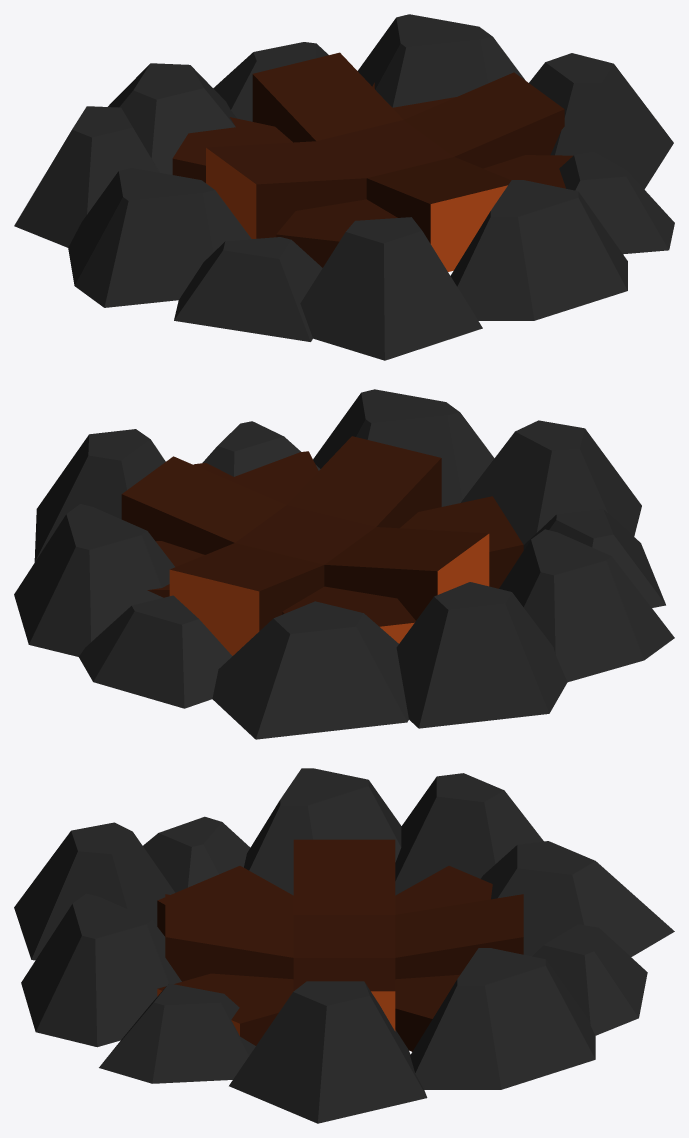
The model's file is campfire.obj.
3 views of the same model, one above another, from view 1: azimuth 30°, elevation 25°; view 2: azimuth 150°, elevation 25°; view 3: azimuth 270°, elevation 25° (orthographic). The views are drawn at different scales.
Visible parts, largest first — view 1: campfire_stones, campfire_logs; view 2: campfire_stones, campfire_logs; view 3: campfire_stones, campfire_logs.
Boxes of the visible parts, <box> form: campfire_stones: <box>14,14,674,360</box>; campfire_logs: <box>172,52,572,271</box>; campfire_stones: <box>14,389,674,739</box>; campfire_logs: <box>121,436,523,655</box>; campfire_stones: <box>14,768,674,1123</box>; campfire_logs: <box>157,839,523,1051</box>.
Size of the model in its own units: 0.5408 by 0.0778 by 0.5155.
